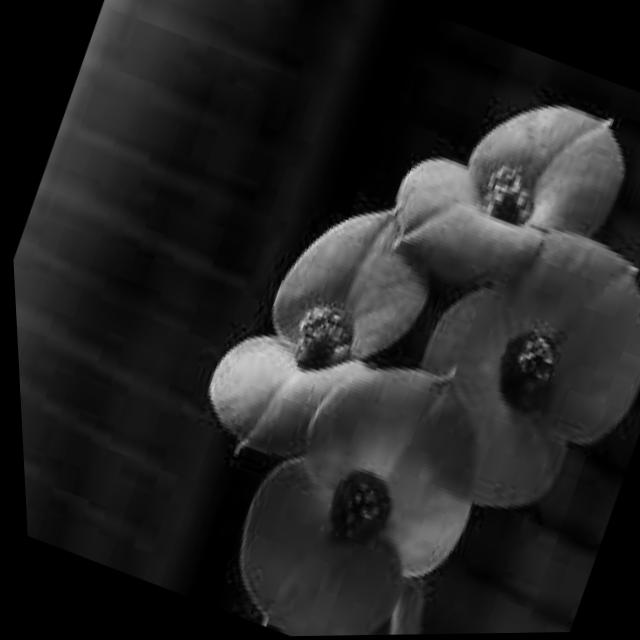Flower: (205, 310, 509, 638), (379, 204, 640, 559), (354, 35, 640, 354), (181, 151, 463, 473)
